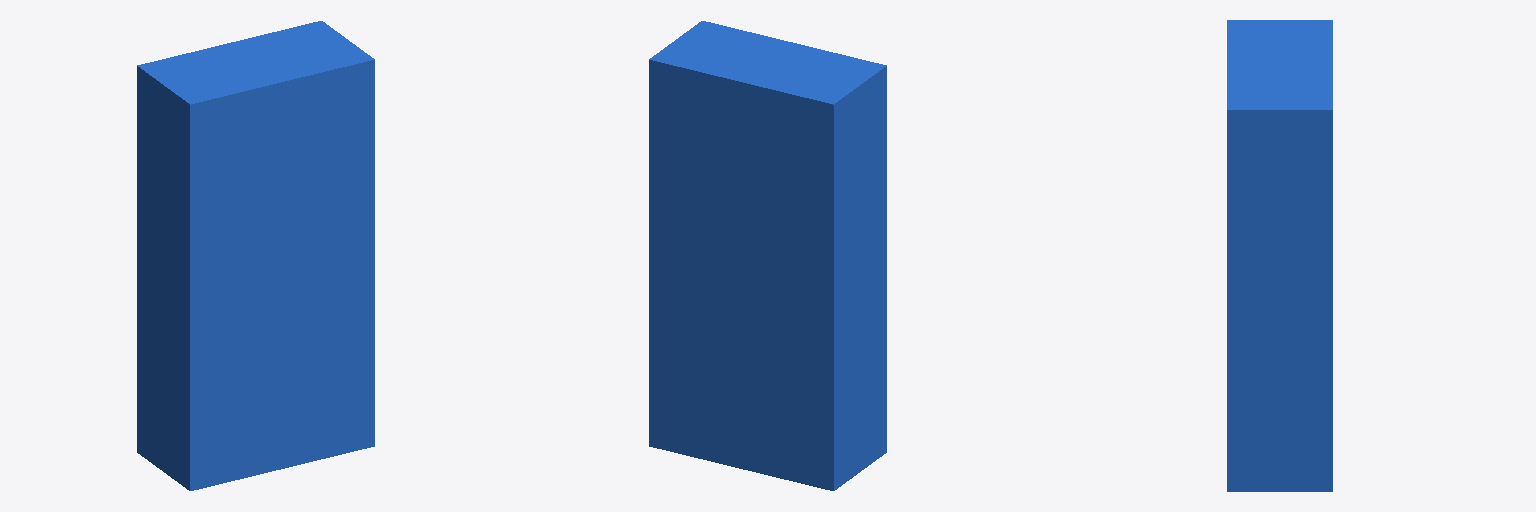
URDF robot description (tcuboid):
<robot name="tcuboid">
  <link name="_name">
    <contact>
      <lateral_friction value="1.0"/>
      <rolling_friction value="0.0"/>
      <contact_cfm value="0.0"/>
      <contact_erp value="1.0"/>
    </contact>
    <visual>
      <origin xyz="-0.036000000000000004 0.0905 -0.03" rpy="0 0 0" />
      <geometry>
	<mesh filename="tcuboid/tinker.obj" scale="0.001 0.001 0.001" />
      </geometry>
      <material name="texture">
	<color rgba="0.2448837131753191 0.5174992612426157 0.8959927219176224 1.0" />
      </material>
    </visual>
    <collision>
      <geometry>
	<mesh filename="tcuboid/tinker_vhacd.obj" scale="0.001 0.001 0.001" />
      </geometry>
    <origin xyz="-0.036000000000000004 0.0905 -0.03" rpy="0 0 0" /></collision>
    <inertial>
      <mass value="1.0" />
      <inertia ixx="1.0" ixy="0.0" ixz="0.0" iyy="1.0" iyz="0.0" izz="1.0" />
    </inertial>
  </link>
</robot>

--- Facts derived from the render (not from the file) ---
Views: 3 orthographic renders of the robot side by side, from view 1: azimuth 30°, elevation 25°; view 2: azimuth 150°, elevation 25°; view 3: azimuth 270°, elevation 25°.
Model tcuboid with 1 links and 0 joints (none), rooted at _name, posed every joint at zero.
Visible links, largest first — view 1: _name; view 2: _name; view 3: _name.
Link boxes in pixels (<box>): _name: <box>137,21,374,490</box>; _name: <box>649,21,886,490</box>; _name: <box>1227,20,1332,491</box>.
Size in the robot's own frame: 0.03 by 0.015 by 0.06 metres.
1 mesh visuals loaded from 1 distinct referenced files (1 OBJ).